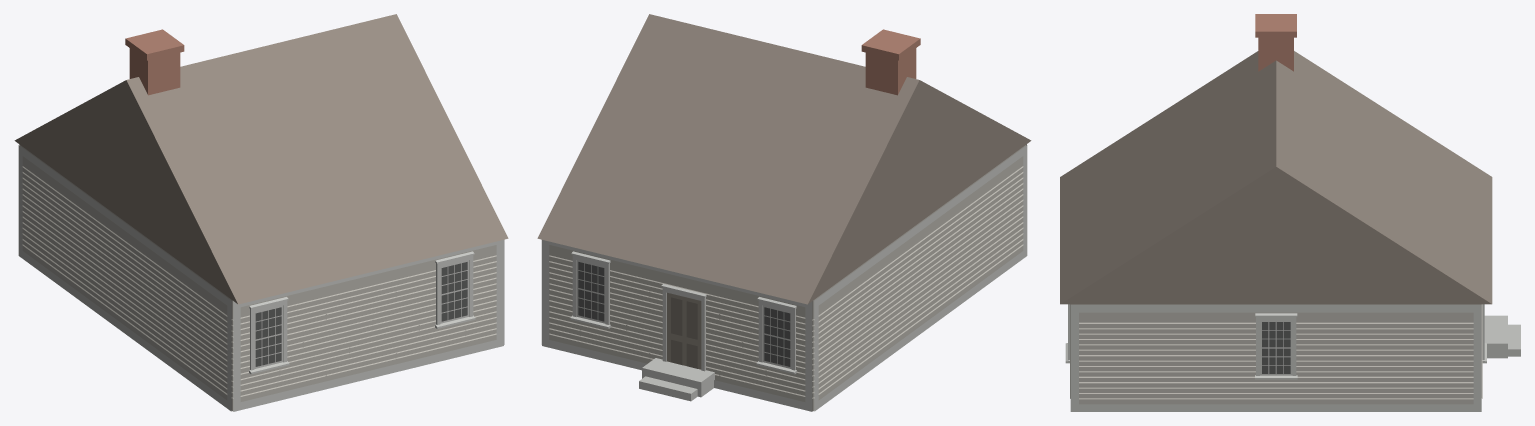
The model's file is recon_1835_blk_school_section_tier_119_d5_02__inferred_1835.glb.
3 views of the same model, side by side, from view 1: azimuth 30°, elevation 25°; view 2: azimuth 150°, elevation 25°; view 3: azimuth 270°, elevation 25° (orthographic). The views are drawn at different scales.
Parts seen in each view (by area): view 1: recon_1835_blk_school_section_tier_119_d5_02__inferred_1835; view 2: recon_1835_blk_school_section_tier_119_d5_02__inferred_1835; view 3: recon_1835_blk_school_section_tier_119_d5_02__inferred_1835.
Boxes of the visible parts, bbox=[...] form: recon_1835_blk_school_section_tier_119_d5_02__inferred_1835: bbox=[14, 14, 508, 411]; recon_1835_blk_school_section_tier_119_d5_02__inferred_1835: bbox=[537, 14, 1031, 411]; recon_1835_blk_school_section_tier_119_d5_02__inferred_1835: bbox=[1060, 14, 1520, 411].
Size of the model in its own units: 7.24 by 7.13 by 10.84.
